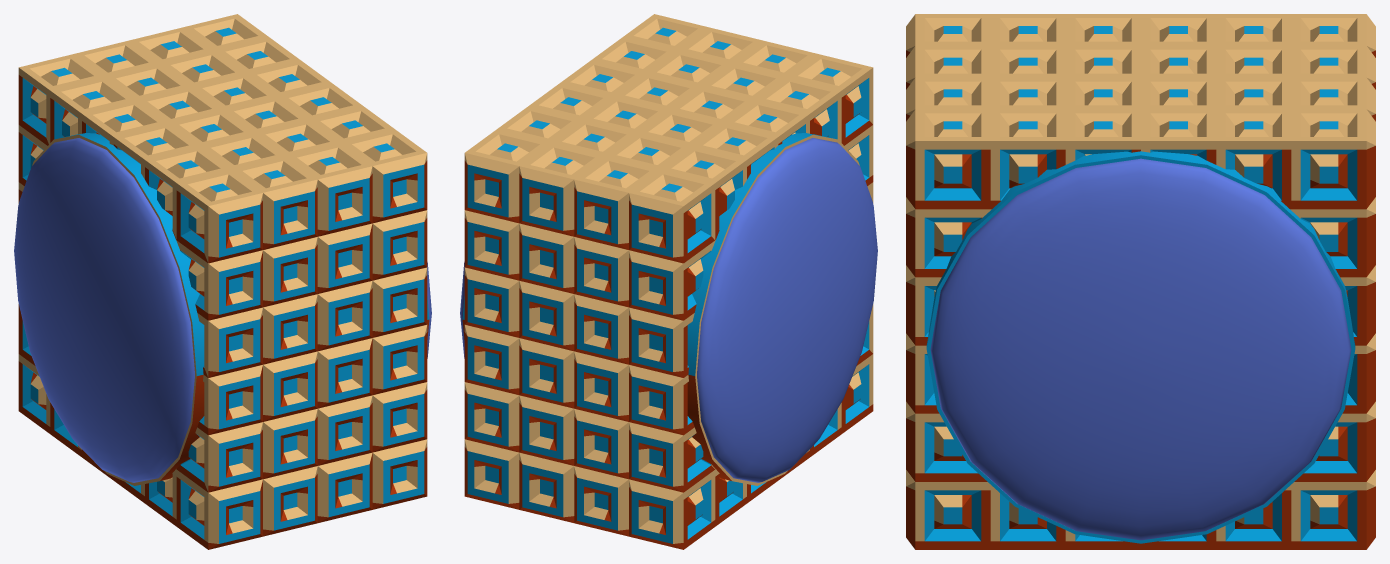
Rendered from br-m-door-blue.fbx.
3 views of the same model, side by side, from view 1: azimuth 30°, elevation 25°; view 2: azimuth 150°, elevation 25°; view 3: azimuth 270°, elevation 25° (orthographic). The views are drawn at different scales.
Parts seen in each view (by area): view 1: wall, bubbleL_blue, tube; view 2: wall, bubbleL_blue, tube; view 3: bubbleR_blue, wall, tube.
Part boxes in pixels (x1,y1,x2,y2): wall: [18, 14, 427, 549]; bubbleL_blue: [14, 138, 194, 482]; tube: [32, 133, 429, 485]; wall: [464, 14, 873, 549]; bubbleL_blue: [697, 138, 877, 482]; tube: [462, 133, 859, 485]; bubbleR_blue: [930, 158, 1351, 540]; wall: [906, 14, 1375, 549]; tube: [926, 151, 1355, 543].
Bounding box in the file's own units: 5.25 × 6 × 6.25.
